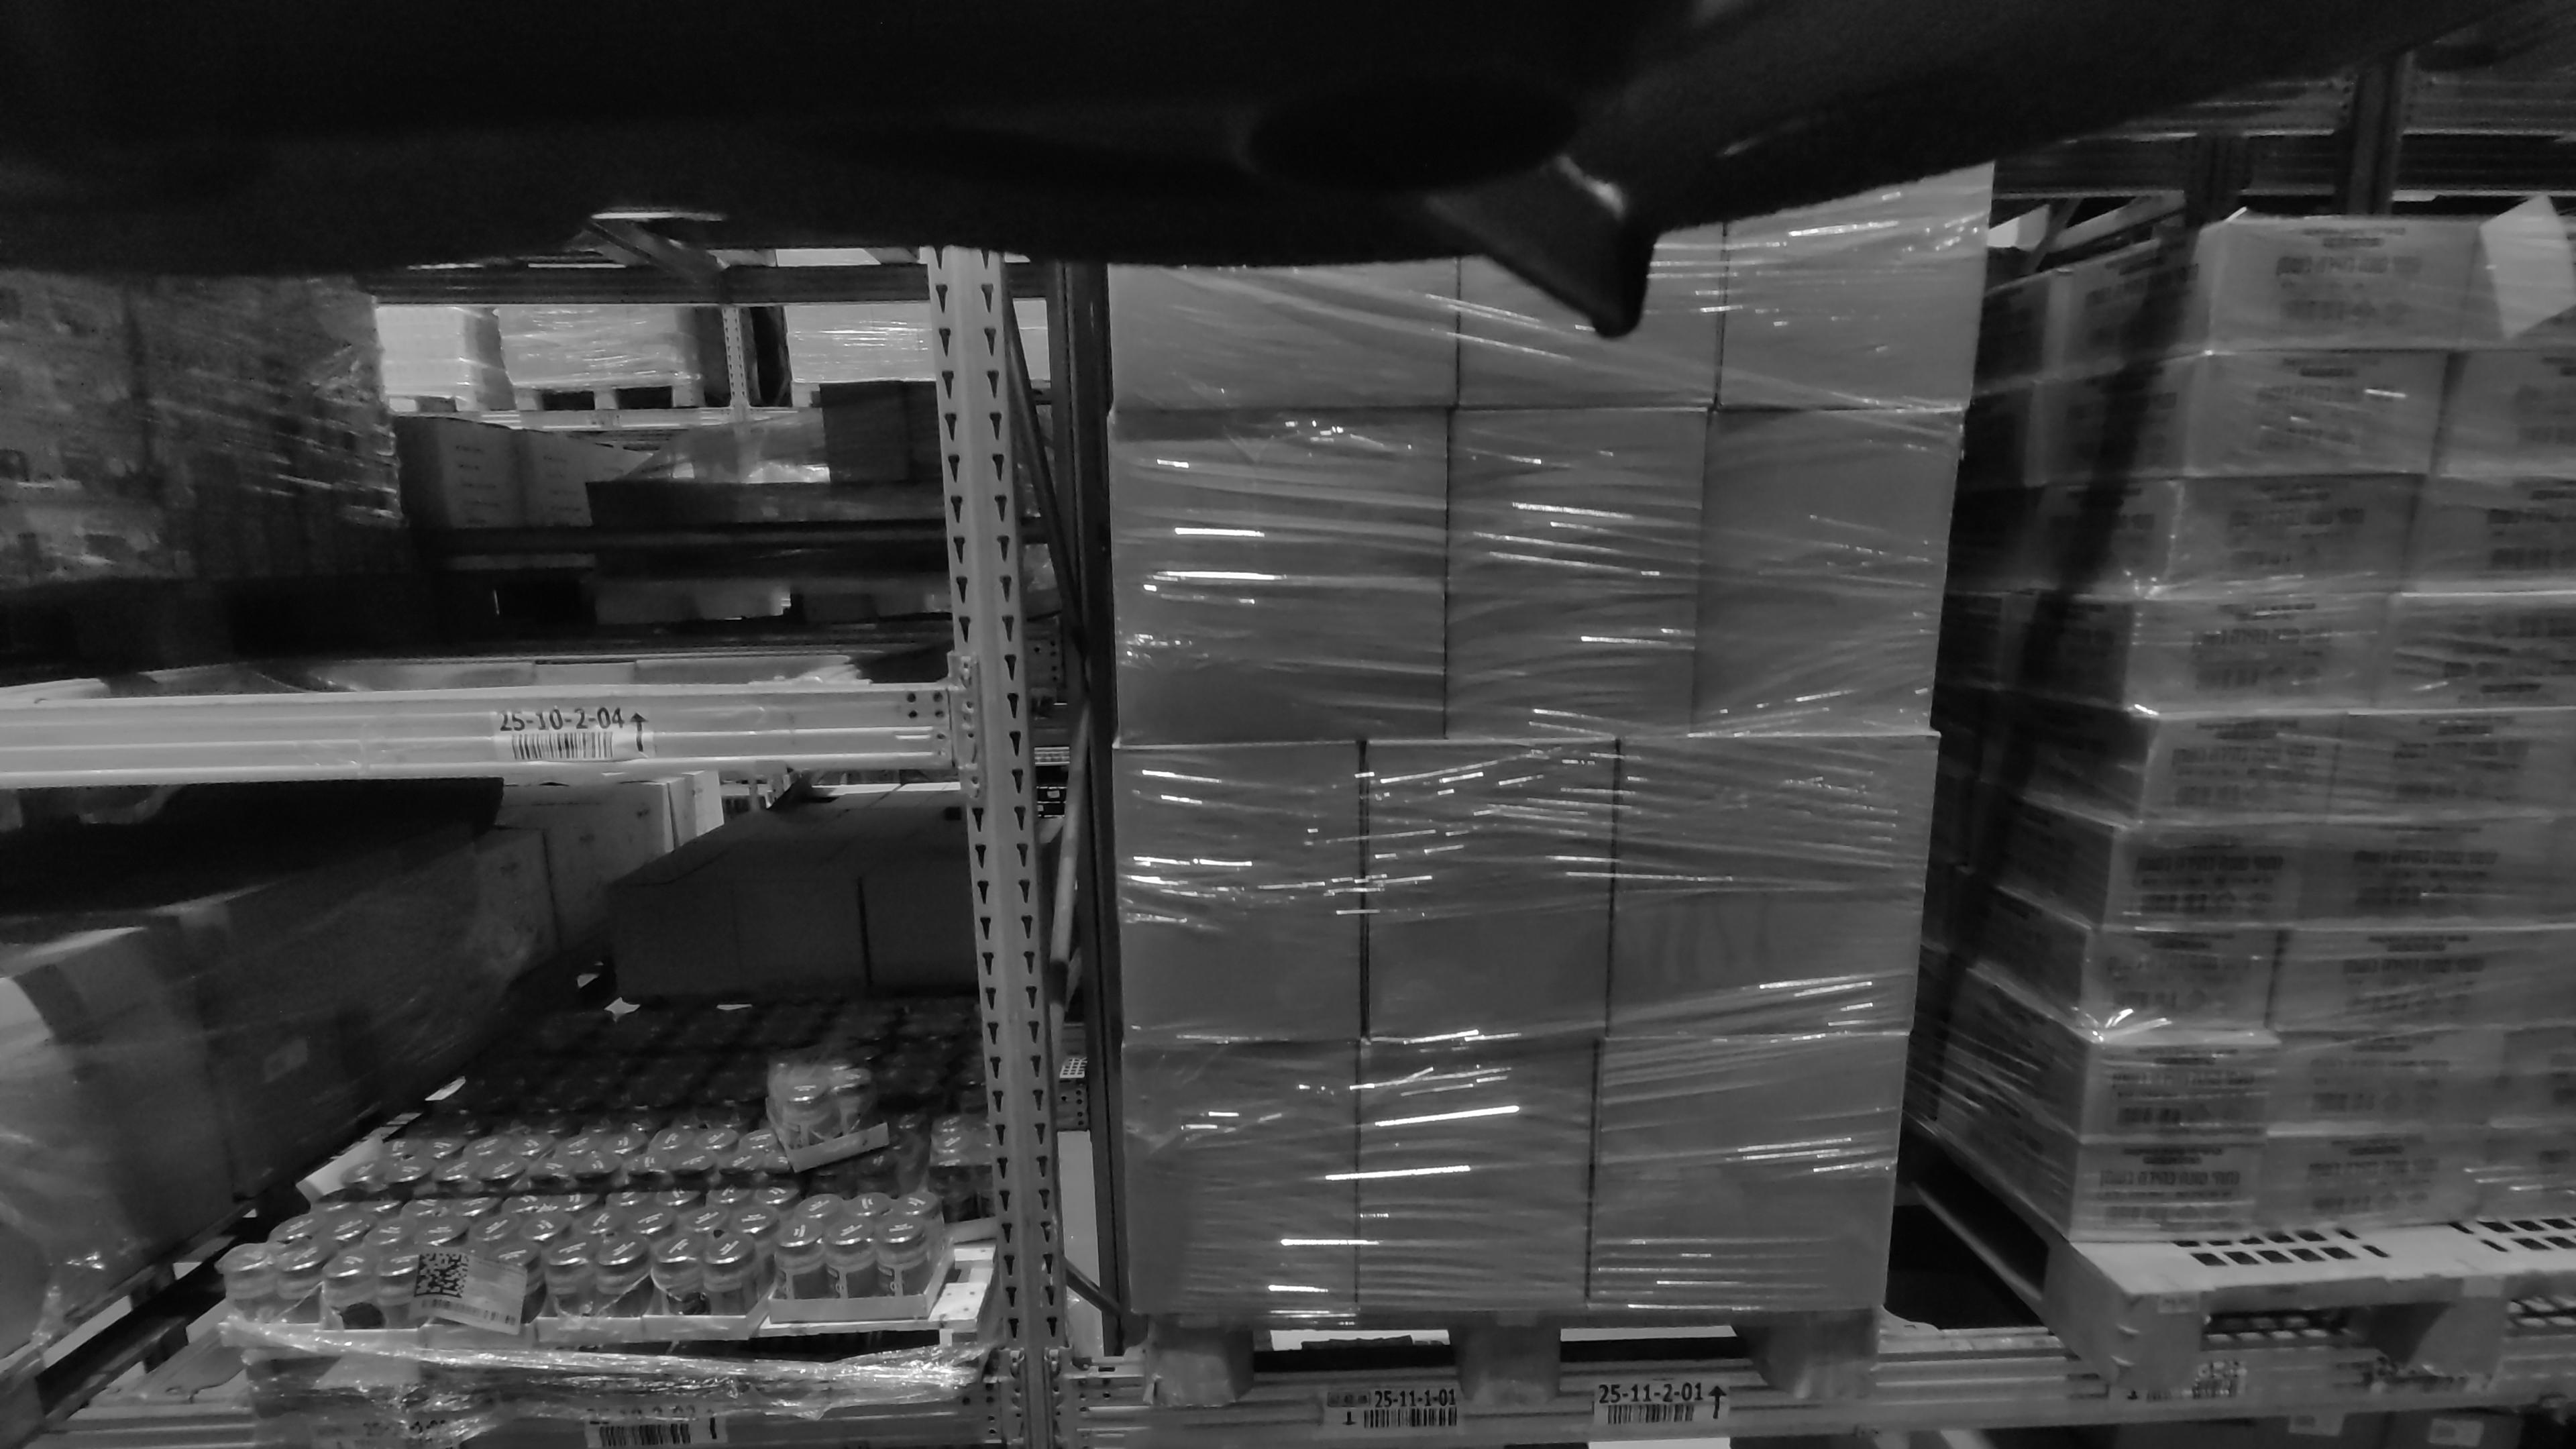empty-shelf: (65, 218, 879, 692)
